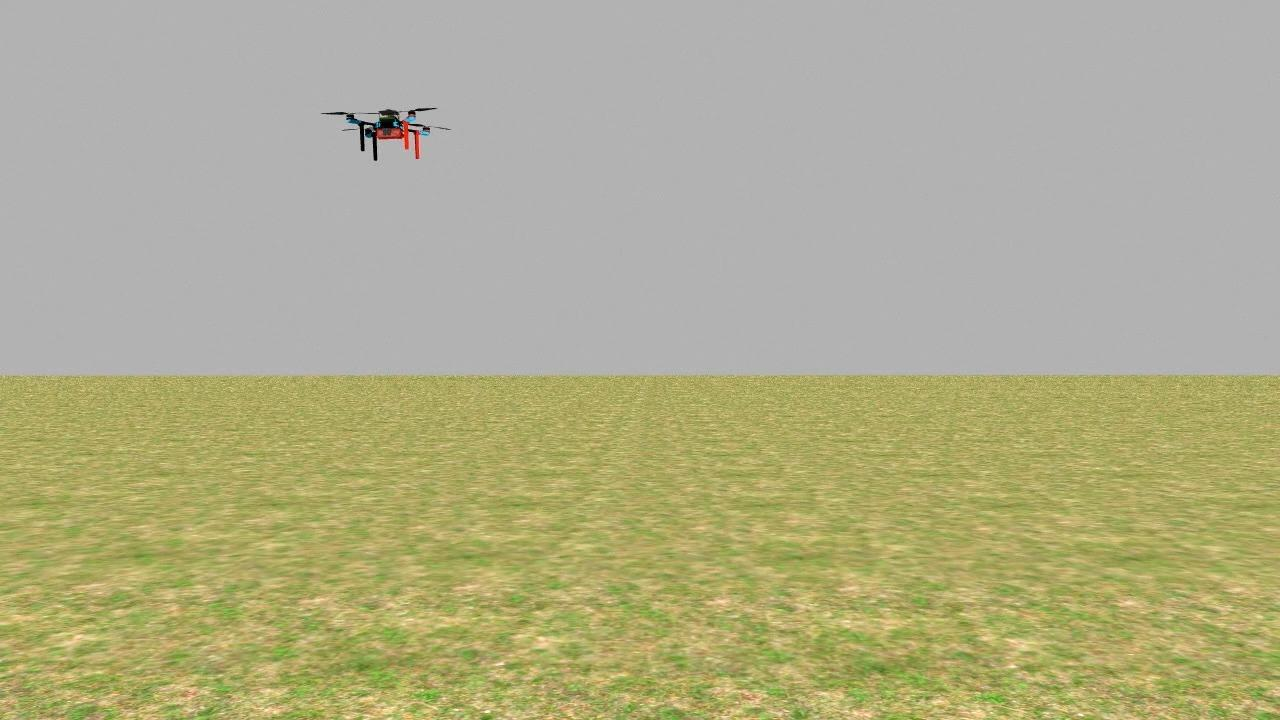UAV: (321, 91, 459, 177)
